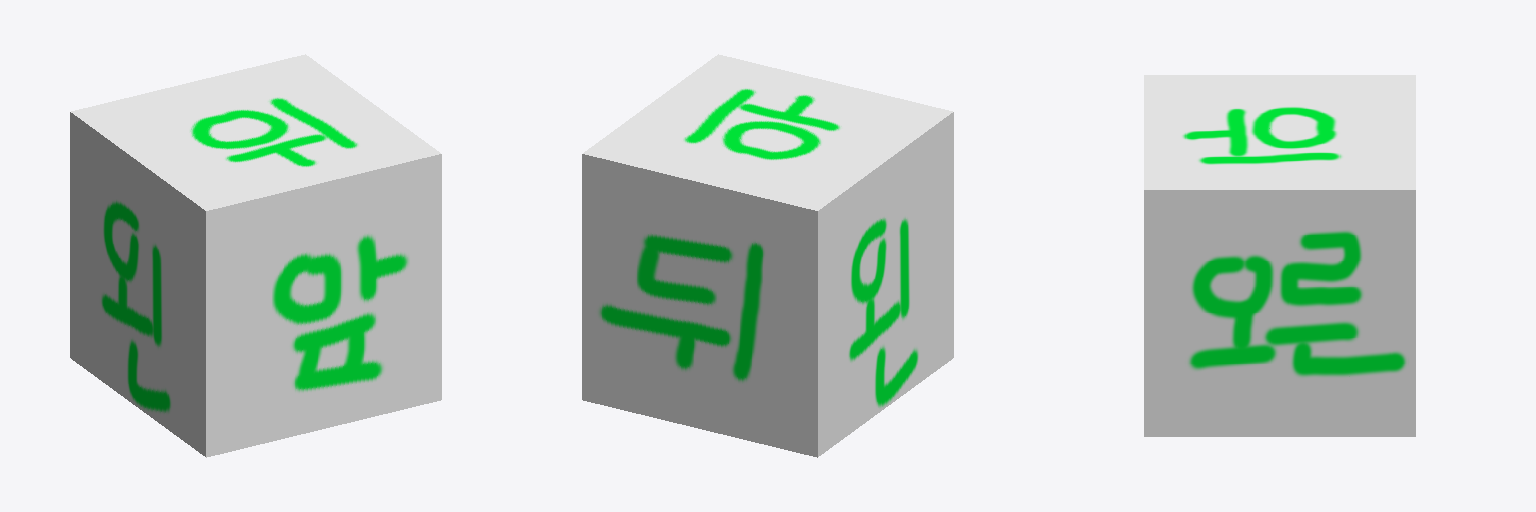
3 renders of one model, left to right at view 1: azimuth 30°, elevation 25°; view 2: azimuth 150°, elevation 25°; view 3: azimuth 270°, elevation 25°, orthographic.
Parts seen in each view (by area): view 1: Cube; view 2: Cube; view 3: Cube.
Part boxes in pixels (bbox=[...]): Cube: bbox=[70, 54, 441, 457]; Cube: bbox=[582, 54, 953, 457]; Cube: bbox=[1144, 75, 1415, 436].
Bounding box in the file's own units: 2 × 2 × 2.
1 materials, 1 textured.